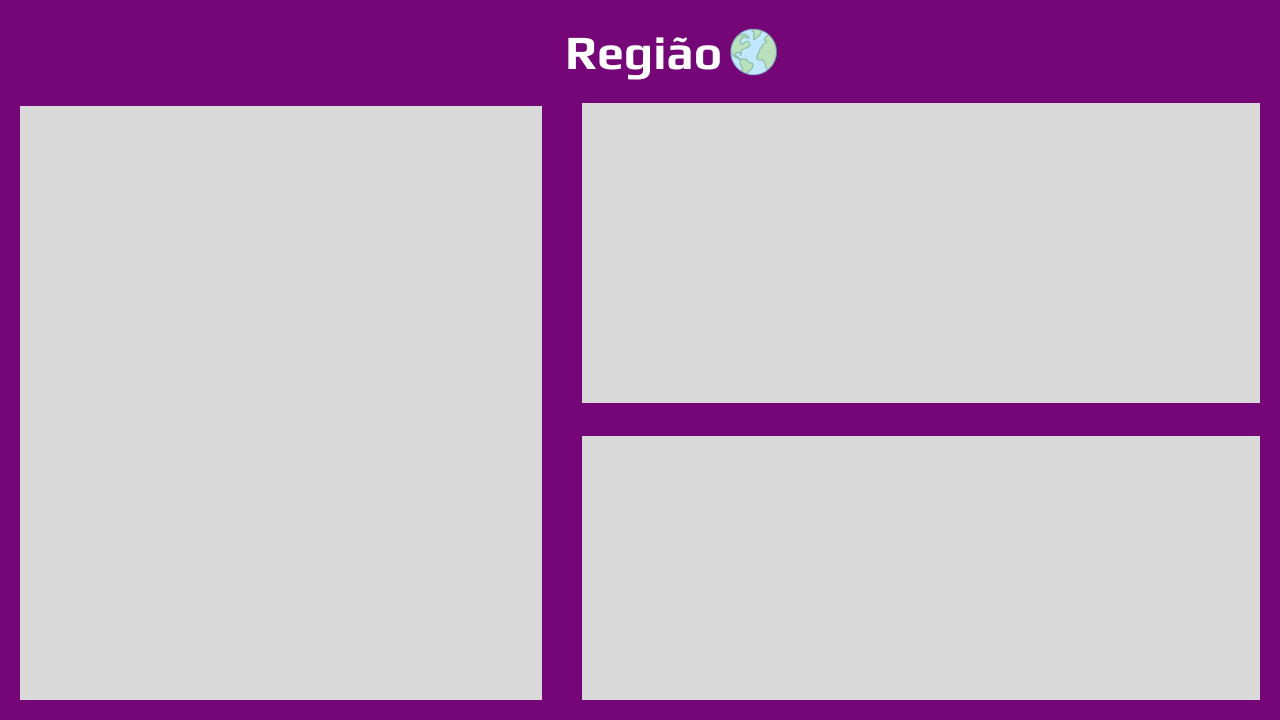

What the dashboard file says about the page in this screenshot:
{"tool":"powerbi","page":{"name":"Dados em região","canvas":[1280,720],"ordinal":3},"visuals":[{"type":"barChart","title":"Vendas Por Região (Porcentagem)","fields":{"Category":["games-Final.Genero"],"Y":["Sum(games-Final.Vendas_EUA)","Sum(games-Final.Vendas_Europa)","Sum(games-Final.Vendas_JP)","Sum(games-Final.Outras_Vendas)"]},"box":[583.2,98.8,680.6,319.7],"z":0},{"type":"areaChart","title":"Vendas Por Região (Unitário)","fields":{"Y":["Sum(games-Final.Vendas_JP)","Sum(games-Final.Vendas_Europa)","Sum(games-Final.Vendas_EUA)","Sum(games-Final.Outras_Vendas)"],"Category":["games-Final.Genero"]},"box":[583.2,429.5,680.6,274.4],"z":1000},{"type":"lineStackedColumnComboChart","title":"Vendas - EUA x Mundo","fields":{"Category":["games-Final.Genero"],"Y":["Sum(games-Final.Vendas_Europa)","Sum(games-Final.Vendas_JP)","Sum(games-Final.Outras_Vendas)"],"Y2":["Sum(games-Final.Vendas_EUA)"]},"box":[16.5,105.7,522.8,598.3],"z":2000}]}

Visuals, with their boxes in screenshot pixels (x1, y1, x2, y2), scaled from the page's 1280x720 canvas onto the 1280x720 screenshot:
"Vendas Por Região (Porcentagem)" barChart: 583 99 1264 418
"Vendas Por Região (Unitário)" areaChart: 583 430 1264 704
"Vendas - EUA x Mundo" lineStackedColumnComboChart: 16 106 539 704
